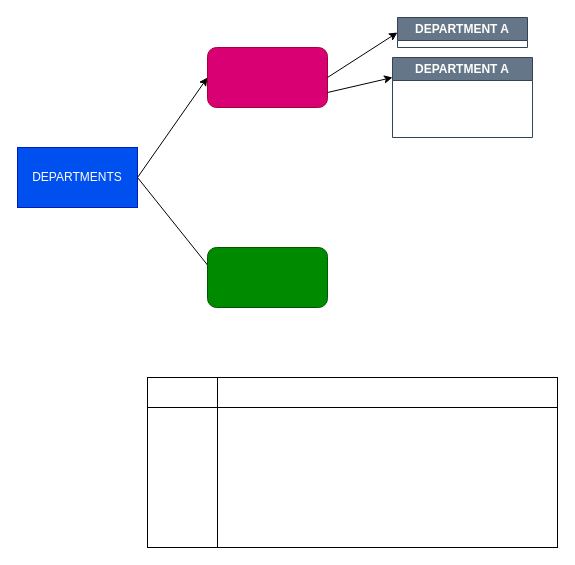
This 575x565 diagram has some shape labels left out. The centre of each missing label's shape, as x and y in pixels:
"CLINICAL" goes at pixel 267 77.
"NONCLINICAL" goes at pixel 267 277.
